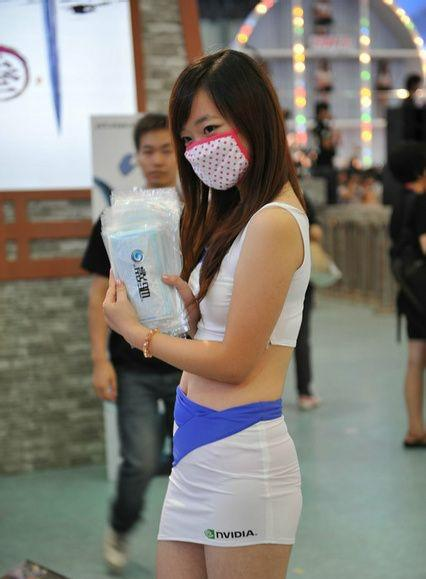NONE: (141, 140, 180, 182)
OK: (177, 115, 251, 189)
